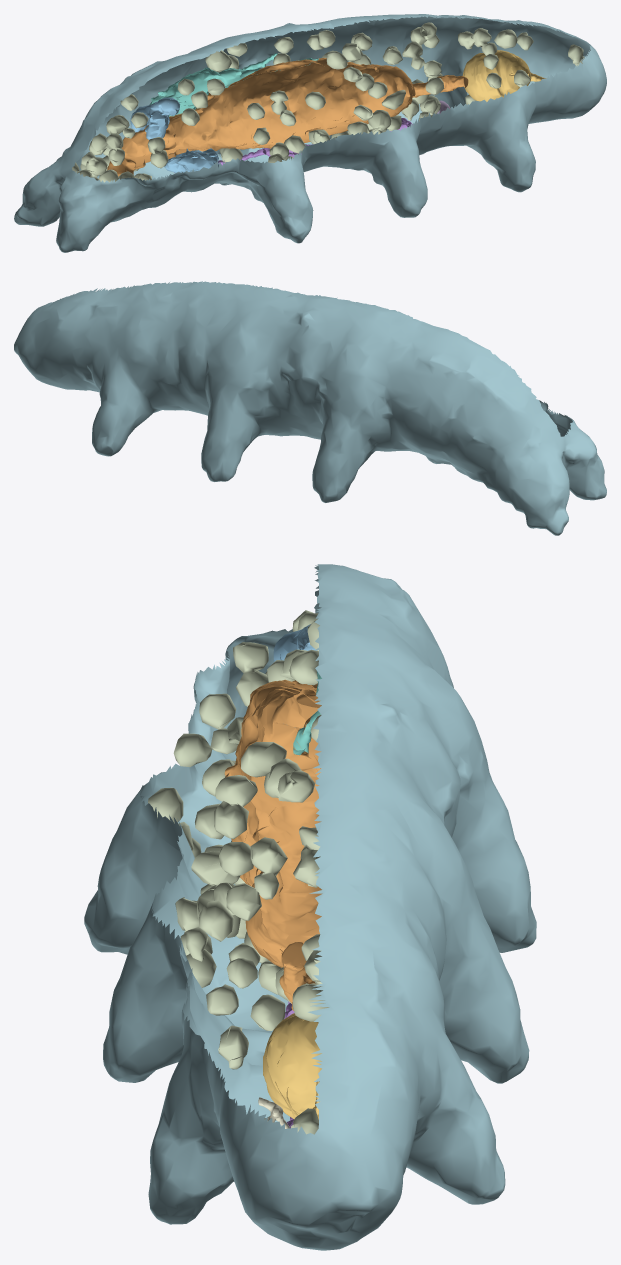
The model's file is bio3d2-tardigrade.glb.
3 views of the same model, one above another, from view 1: azimuth 30°, elevation 25°; view 2: azimuth 150°, elevation 25°; view 3: azimuth 270°, elevation 25° (orthographic). The views are drawn at different scales.
Visible parts, largest first — view 1: body, storage-cells, gut, malpighian-tubules, pharynx, ovary, esophagus; view 2: body; view 3: body, storage-cells, gut, pharynx, esophagus.
Boxes of the visible parts, box(x1,y1,x2,y2) form: body: box(14, 14, 606, 252); storage-cells: box(72, 22, 584, 182); gut: box(107, 58, 415, 176); malpighian-tubules: box(130, 97, 218, 172); pharynx: box(462, 50, 531, 101); ovary: box(149, 53, 318, 116); esophagus: box(412, 75, 468, 97); body: box(14, 281, 606, 535); body: box(84, 564, 536, 1250); storage-cells: box(148, 610, 329, 1134); gut: box(224, 679, 322, 967); pharynx: box(263, 1013, 321, 1119); esophagus: box(279, 942, 315, 1010).
Bounding box in the file's own units: 164 × 50.64 × 57.35.
